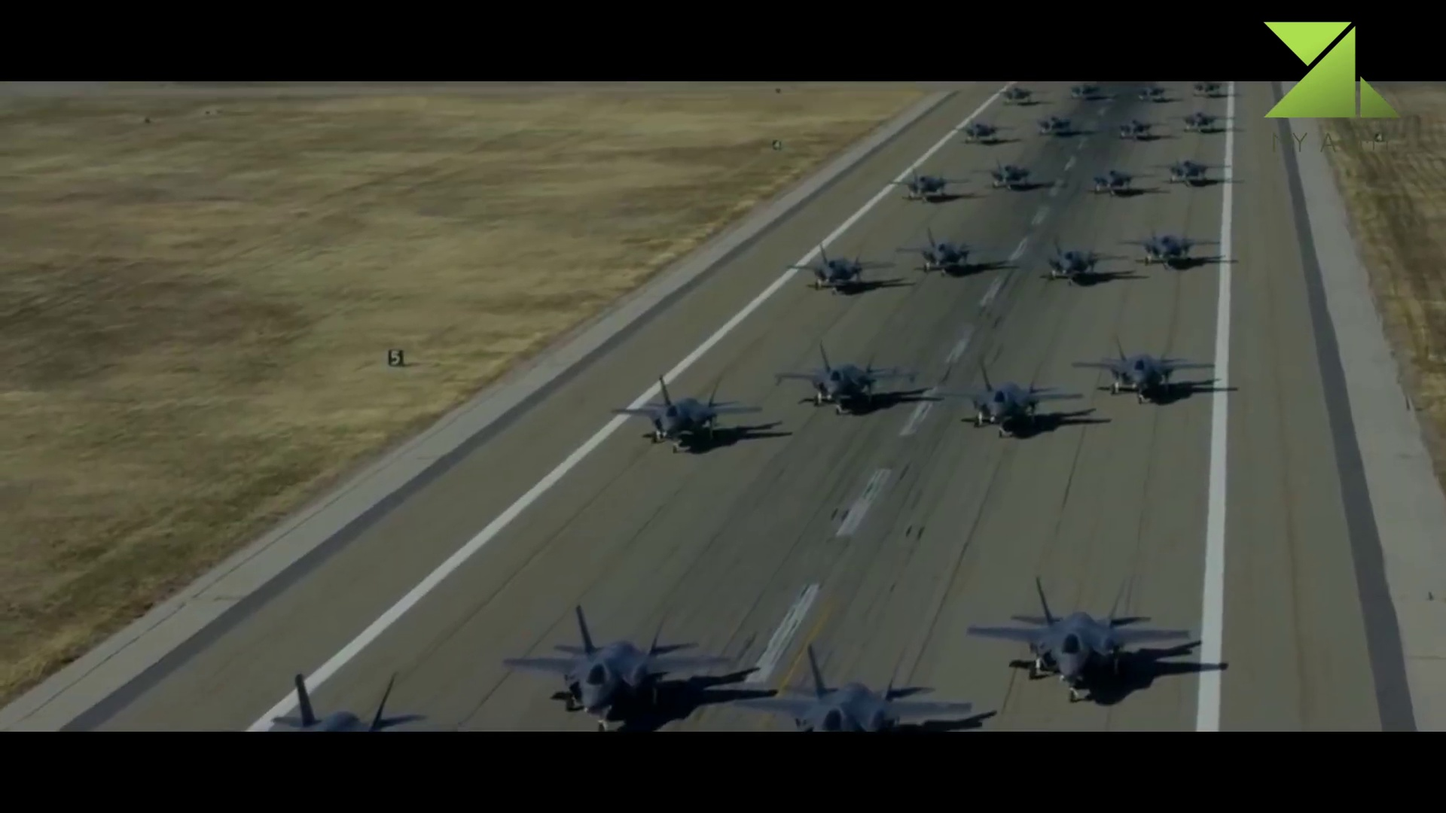F35: (500, 601, 759, 734), (967, 573, 1192, 705), (724, 643, 973, 732), (930, 358, 1084, 438), (611, 371, 762, 452), (772, 337, 918, 415), (1073, 334, 1215, 405), (788, 242, 896, 296), (895, 226, 991, 278), (1114, 227, 1222, 270), (1038, 239, 1130, 289), (890, 162, 971, 204), (974, 158, 1048, 192), (1159, 159, 1232, 189), (1087, 170, 1154, 198)
